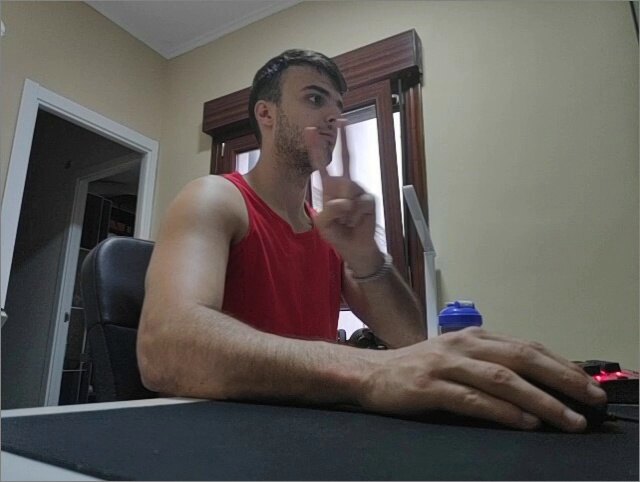Peace: (299, 117, 377, 249)
